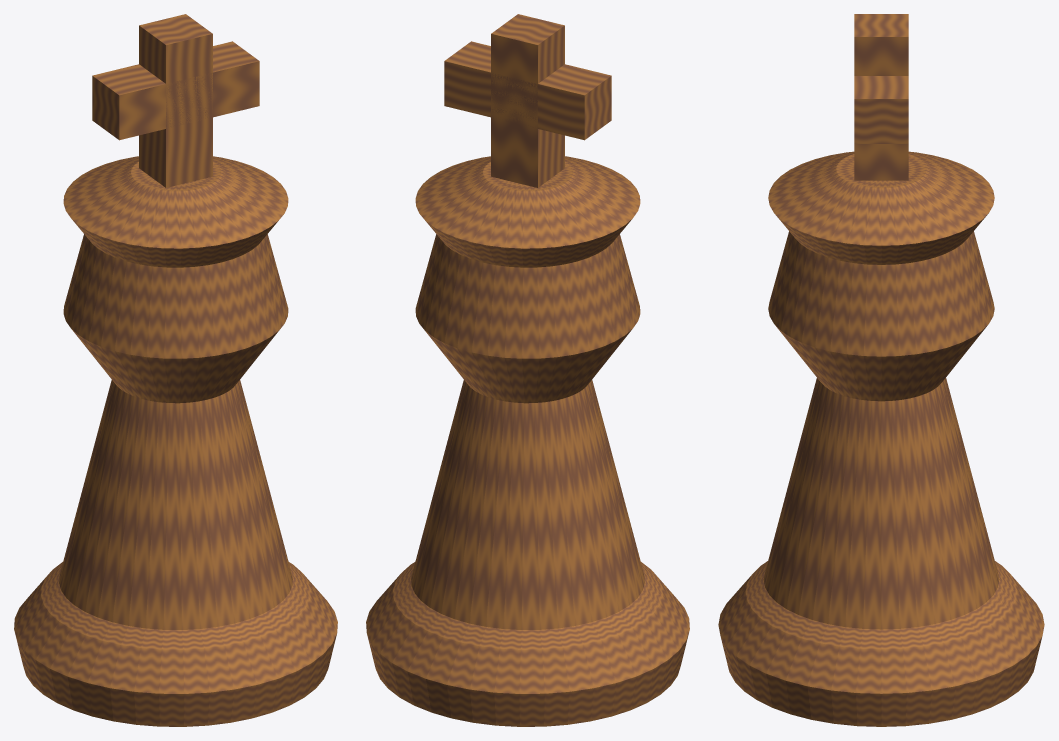
The model's file is king_ivory.obj.
The picture shows the model from 3 angles, left to right: view 1: azimuth 30°, elevation 25°; view 2: azimuth 150°, elevation 25°; view 3: azimuth 270°, elevation 25°; orthographic projection.
Bounding box in the file's own units: 0.72 × 1.55 × 0.72.
Materials: 1 (1 with a texture image).
